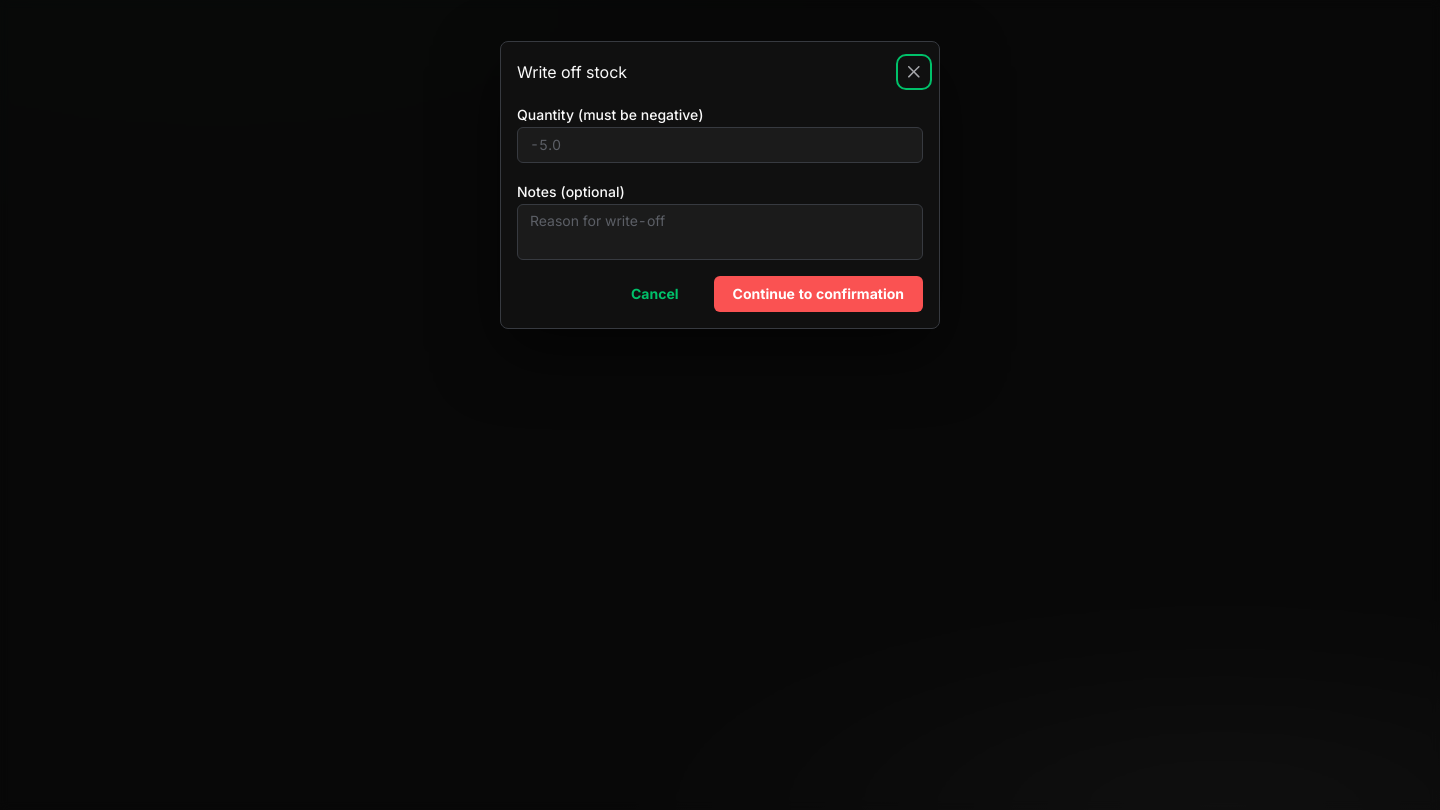
Test case: WriteOffModal › rejects positive: typing positive qty → shows "Write-offs must be negative" error
expect the dialog is shown: met, box [500,40,940,328]
Type "5" into the field labelled "Quantity (must be negative)" at (720, 144), box [517,126,923,162]
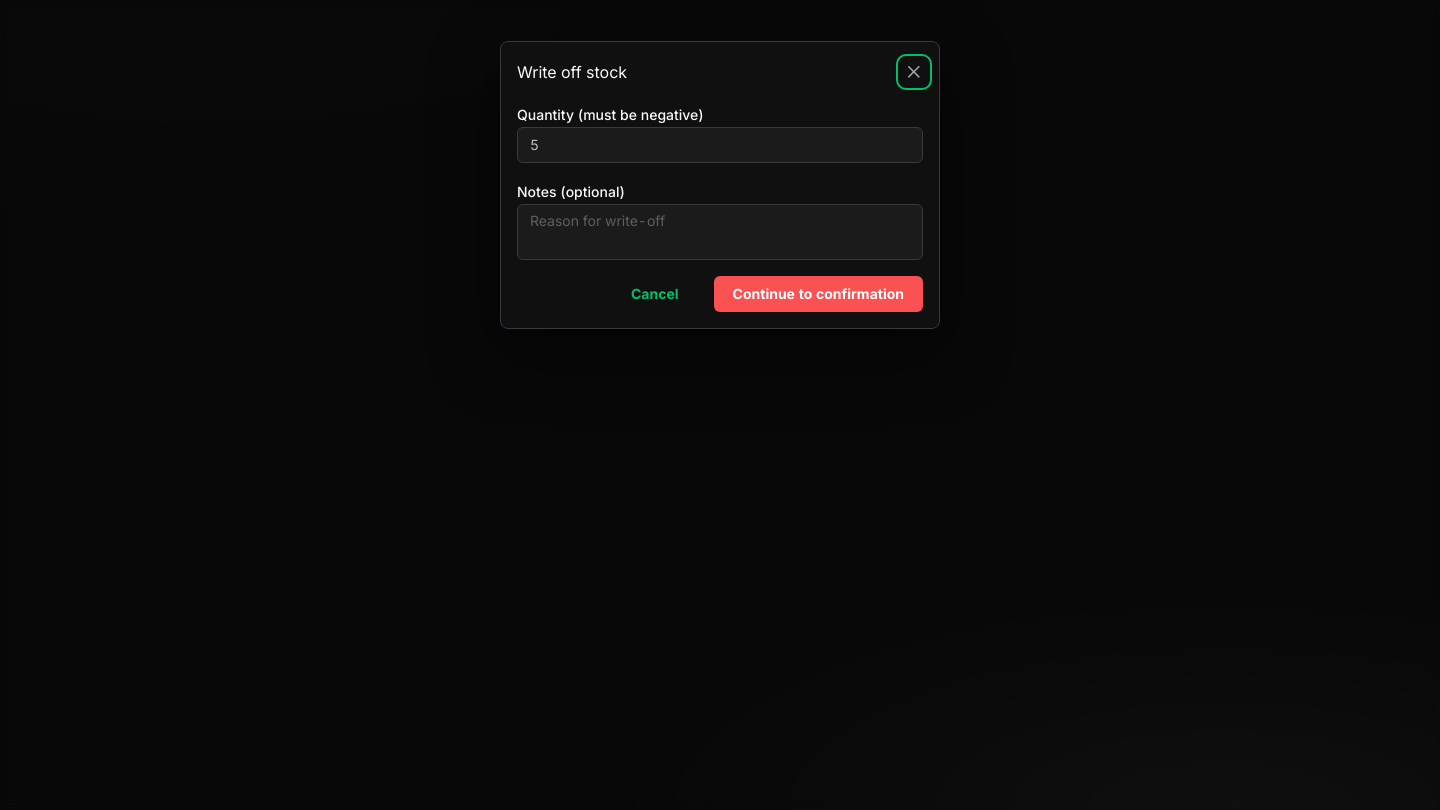
Click the button "Continue to confirmation" at (818, 294), box [714,276,923,312]
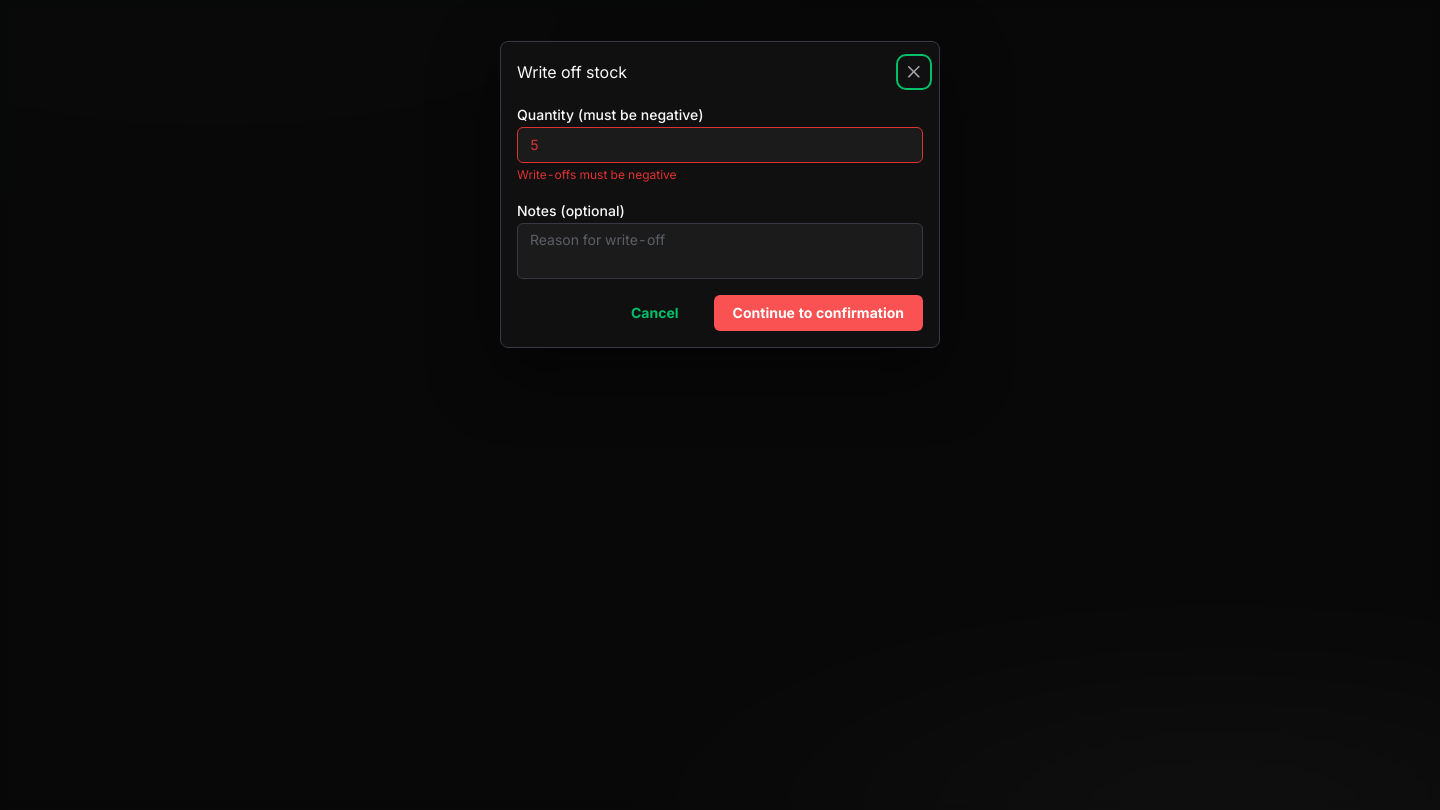
expect the text "Write-offs must be negative" is shown: met, box [517,166,677,181]
